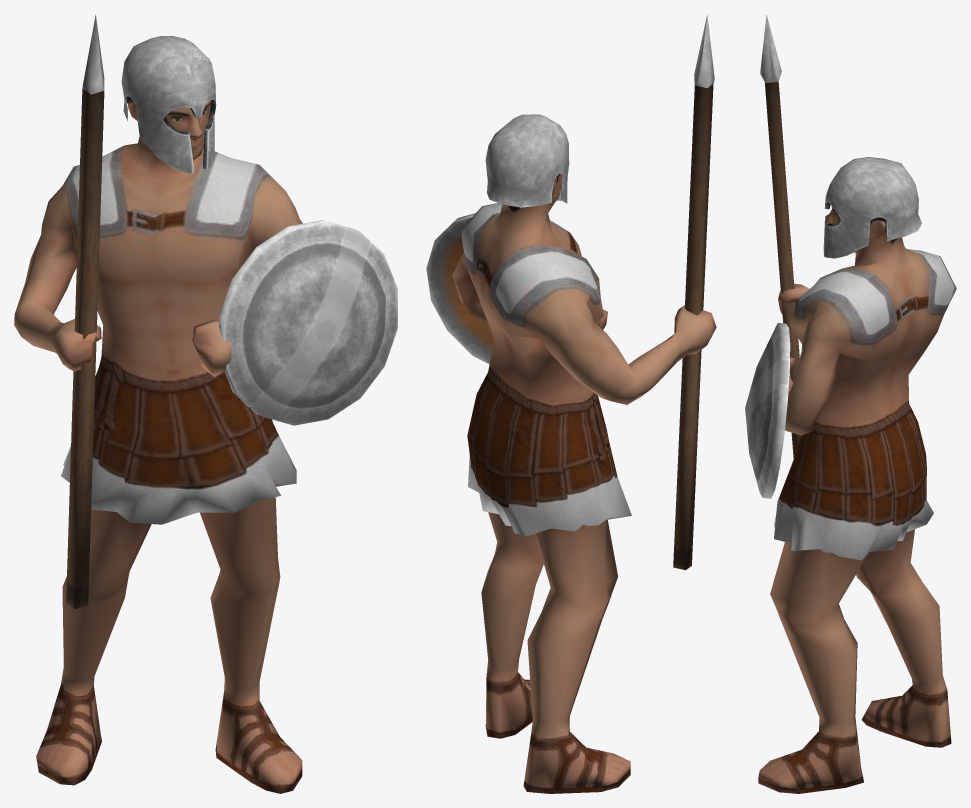
Rendered from 10-hoplite.glb.
3 renders of one model, left to right at view 1: azimuth 30°, elevation 25°; view 2: azimuth 150°, elevation 25°; view 3: azimuth 270°, elevation 25°, orthographic. The views are drawn at different scales.
Bounding box in the file's own units: 0.9996 × 2.39 × 0.6626.
Materials: 4 (4 with a texture image).
